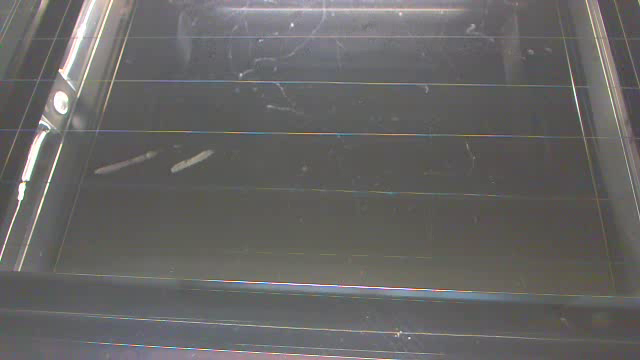Alfa: (89, 141, 162, 173), (168, 145, 212, 178)
